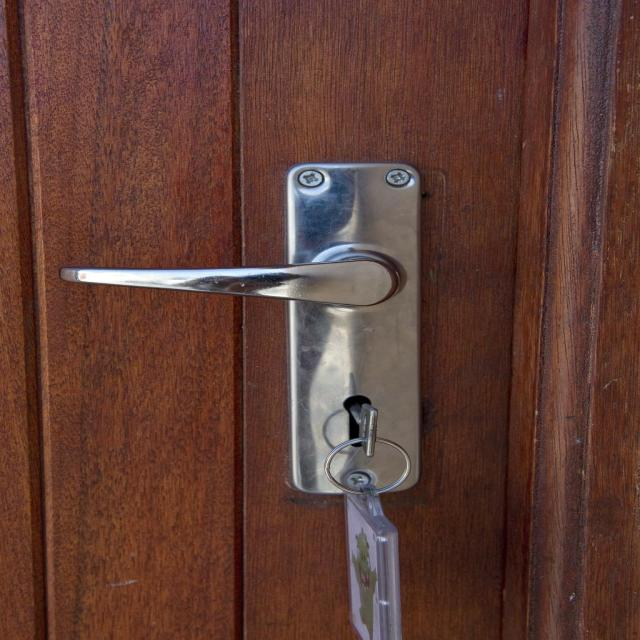Frontdoor keys: (314, 386, 438, 478)
